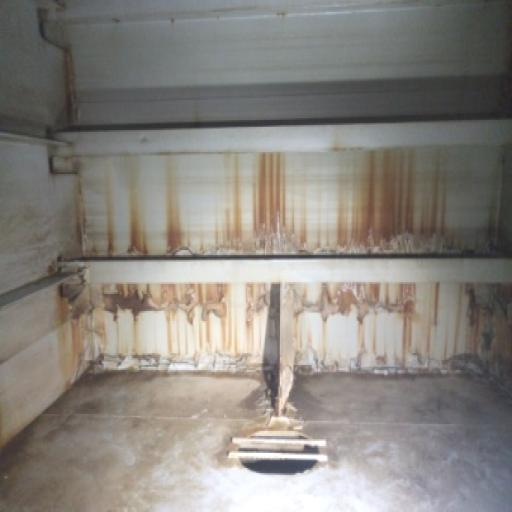Detect-rust-on-metal-surfaces: (54, 262, 511, 408), (102, 132, 511, 261), (58, 39, 93, 245)
